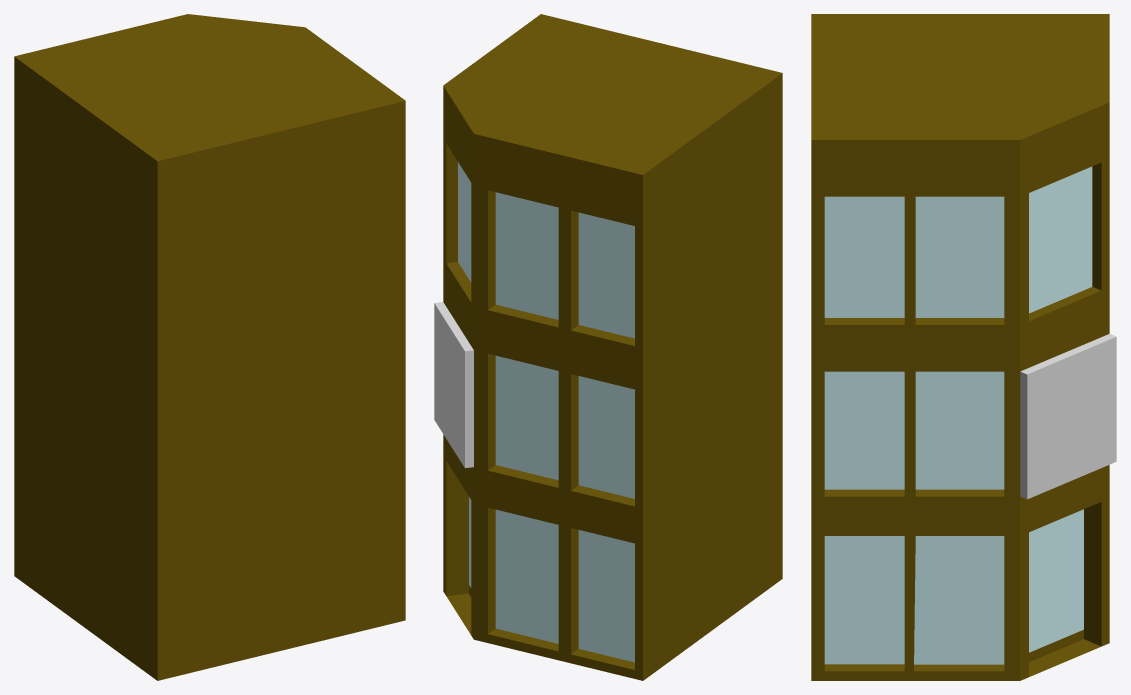
Rendered from Haneji_test.fbx.
3 views of the same model, side by side, from view 1: azimuth 30°, elevation 25°; view 2: azimuth 150°, elevation 25°; view 3: azimuth 270°, elevation 25° (orthographic). The views are drawn at different scales.
Parts seen in each view (by area): view 1: m150; view 2: m150; view 3: m150.
Boxes of the visible parts, bbox=[...] form: m150: bbox=[14, 14, 405, 680]; m150: bbox=[434, 14, 782, 680]; m150: bbox=[811, 14, 1116, 680].
Size of the model in its own units: 768 by 1500 by 768.
